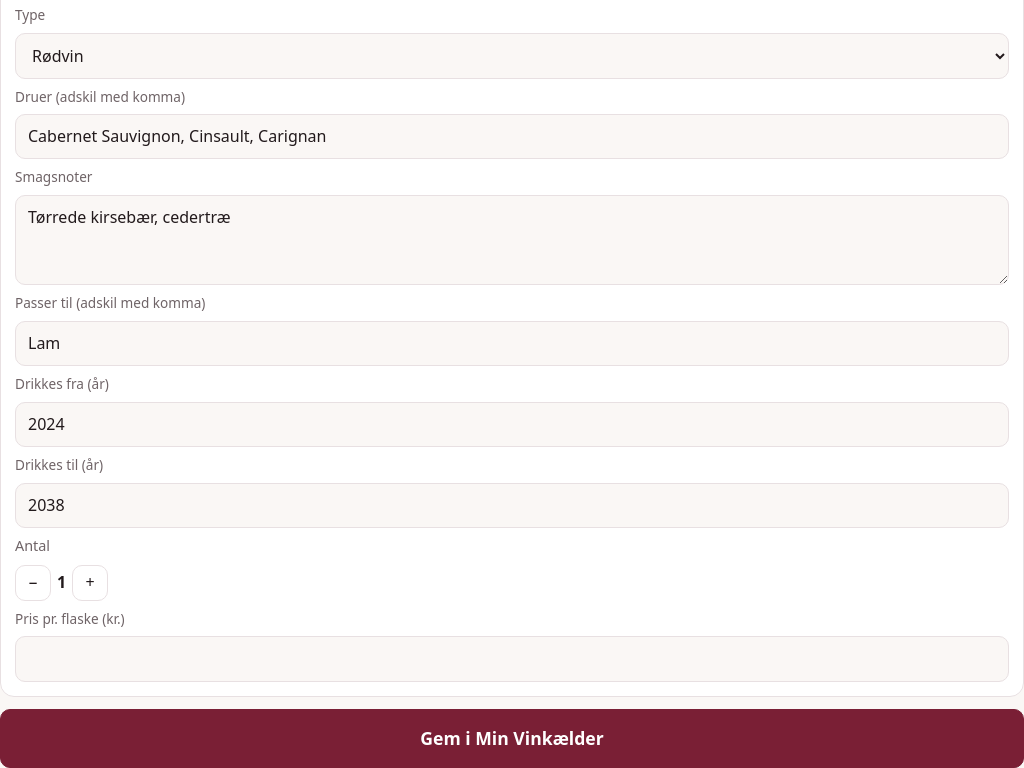
Scan næste flaske resets the page
Earlier steps of the test are not shown.
(page scrolled)
Click the button "Gem i Min Vinkælder": (512, 738) [0, 709, 1023, 767]
(page scrolled)
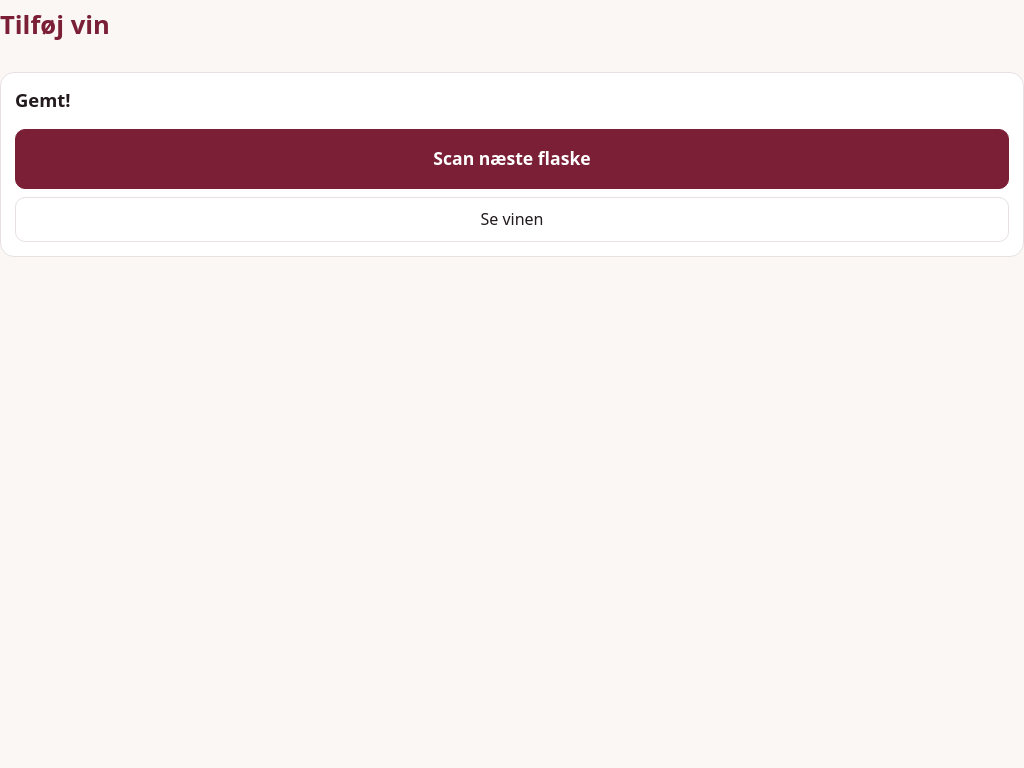
Click the button "Scan næste flaske": (512, 159) [15, 129, 1009, 189]
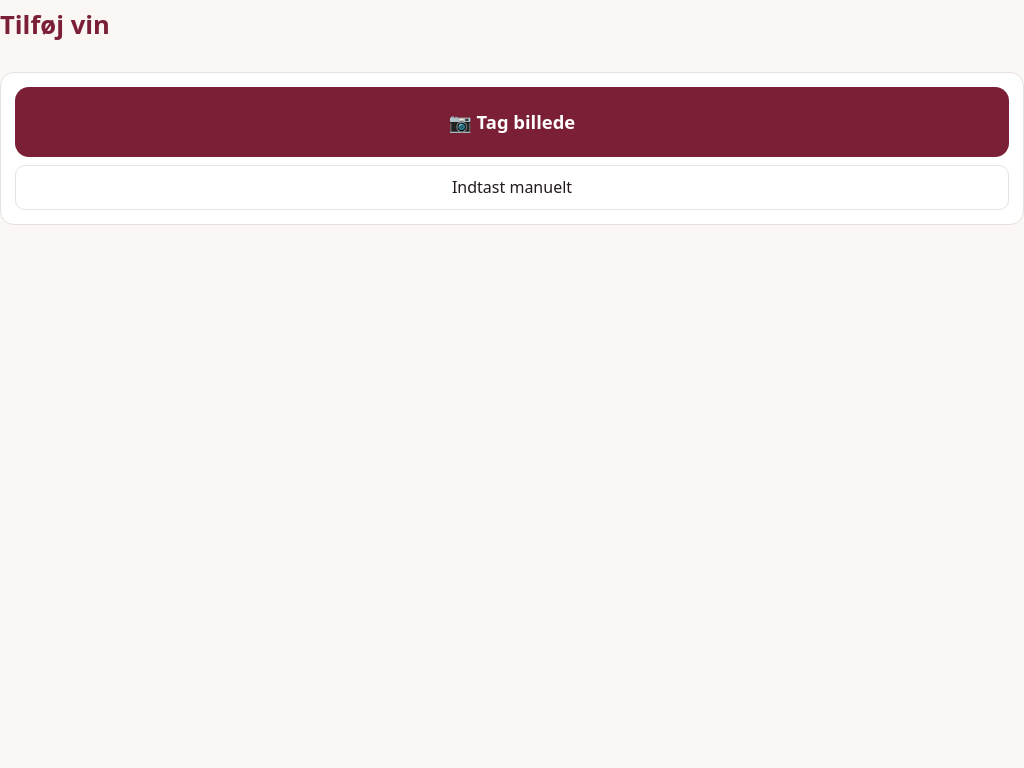
Expected: the file field labelled "Tag billede" is shown, [15, 86, 1009, 157]
